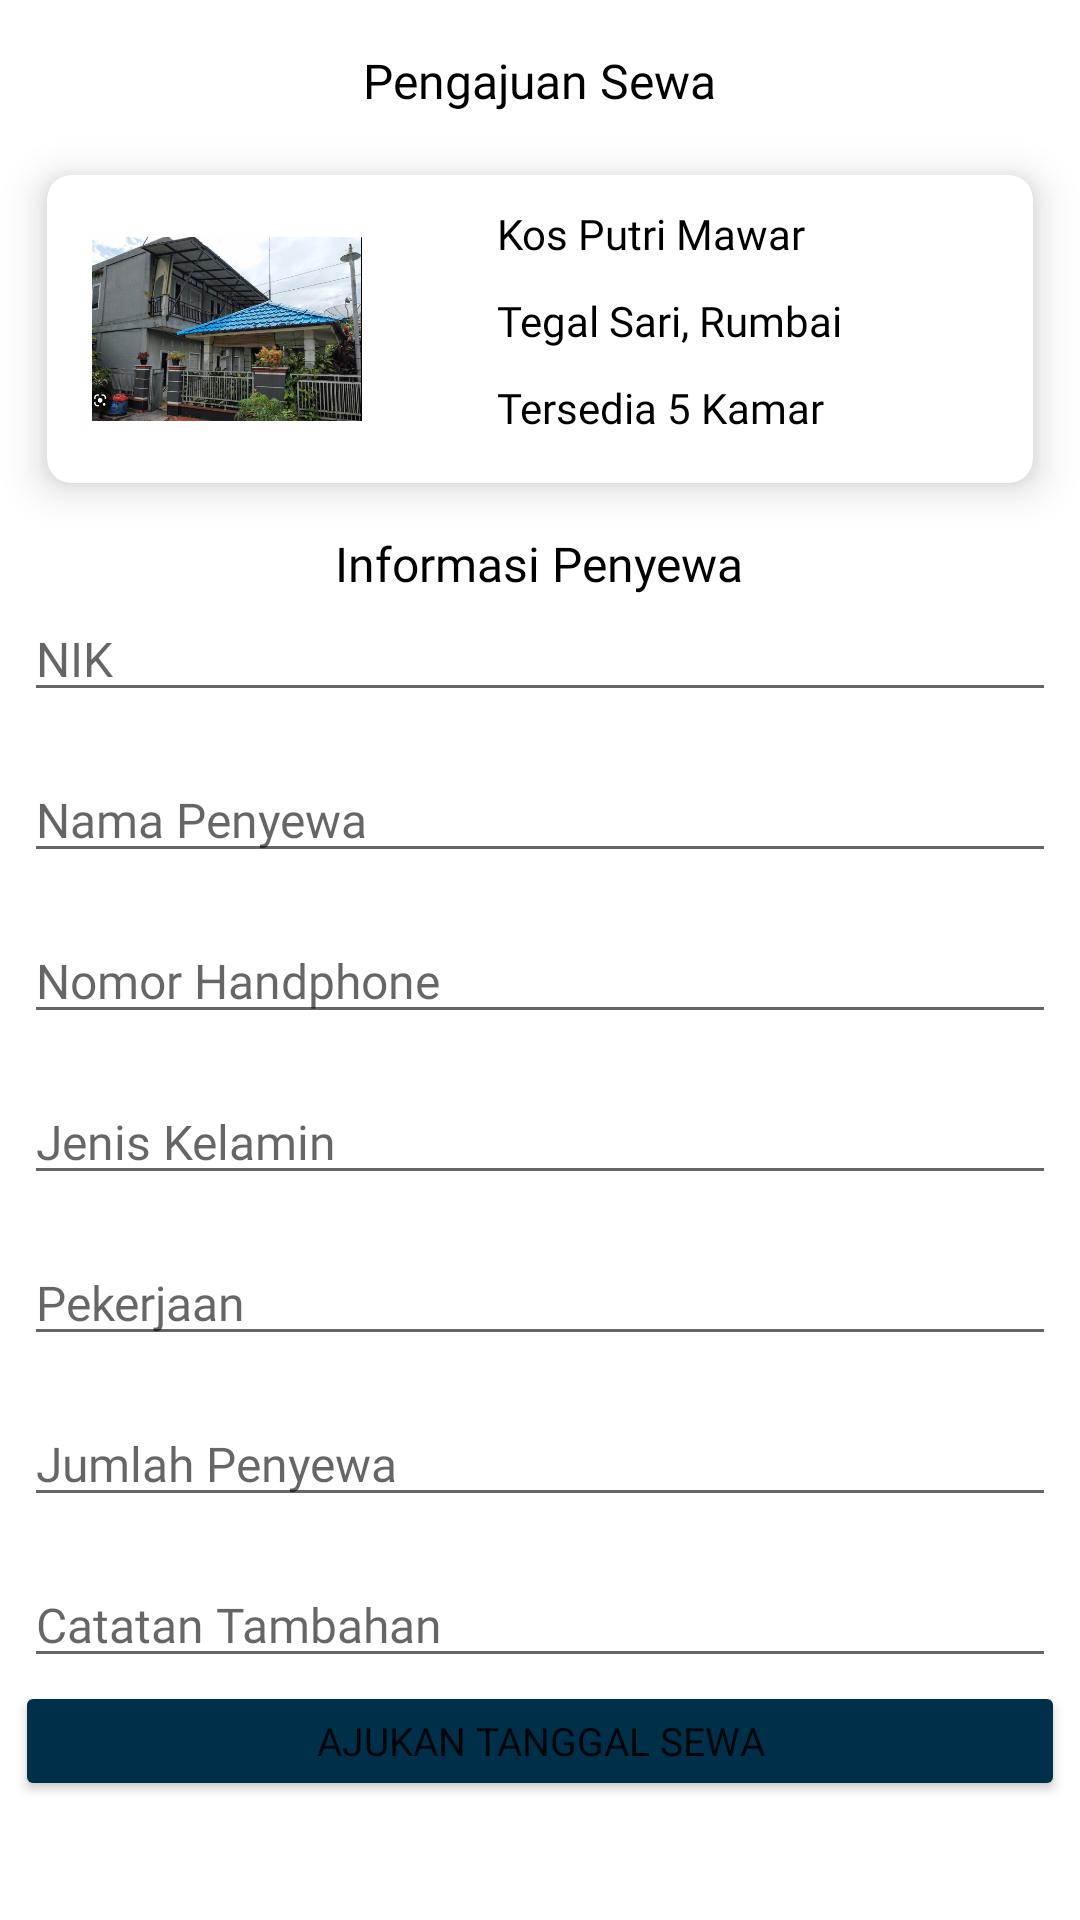

Screen size 1080*1920. Icon name, then its box in pixels as (x1, y1, x2, y2):
kosan: (92, 237, 362, 421)
